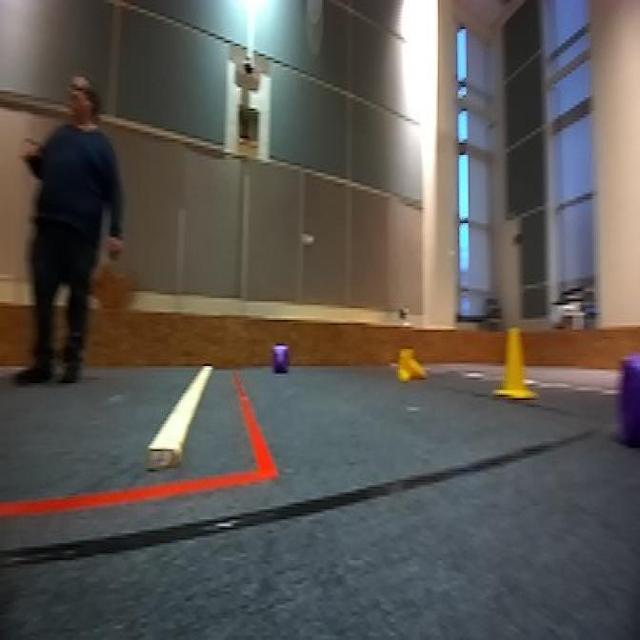frc_cone: (496, 323, 534, 407), (392, 346, 427, 384)
frc_cube: (617, 358, 640, 444), (270, 344, 290, 376)
